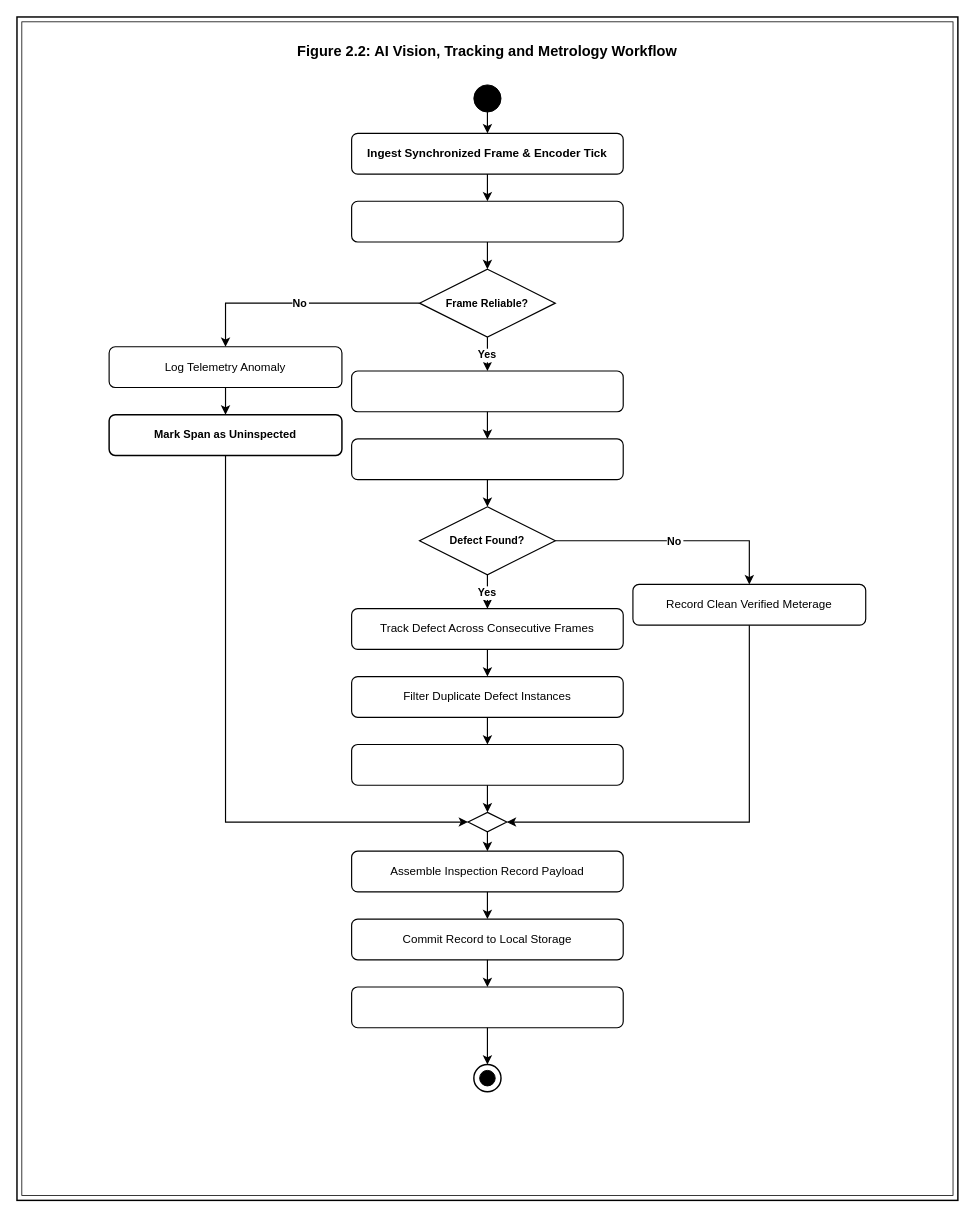
Image size: 976x1218. Some labels were removed from this diagram. Here are the shapes that lost their labels. From the top down, the centre of each, then its label:
At point 487,221: "Check Connectivity, Lighting & Sharpness".
At point 487,391: "ROI Crop & Undistortion".
At point 487,459: "Execute AI Defect Detection".
At point 487,764: "Calculate Physical Coordinates (X, Y)".
At point 487,1007: "Enqueue to Synchronization Outbox".
